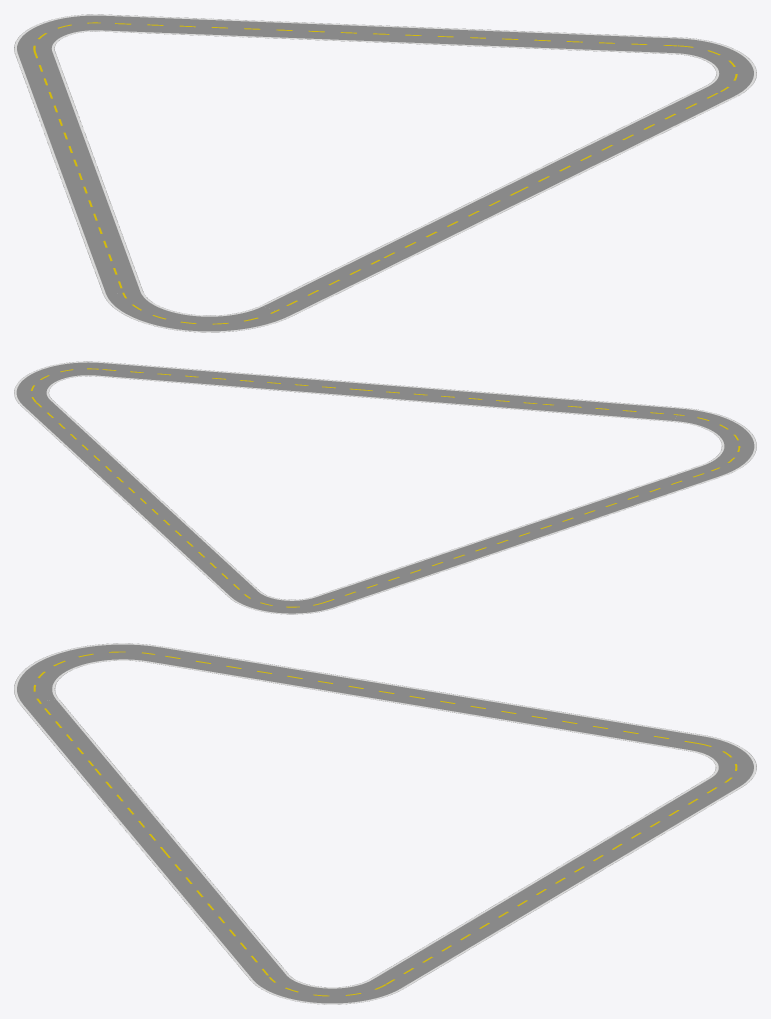
The model's file is track12.fbx.
3 renders of one model, top to bottom at view 1: azimuth 30°, elevation 25°; view 2: azimuth 150°, elevation 25°; view 3: azimuth 270°, elevation 25°, orthographic. The views are drawn at different scales.
Visible parts, largest first — view 1: road_straight_69, road_straight_71, road_straight_67, road_straight_64, road_arc_77, road_straight_74, road_arc_68, road_arc_70; view 2: road_straight_71, road_straight_69, road_straight_67, road_straight_64, road_arc_77, road_straight_74, road_arc_68, road_arc_70; view 3: road_straight_71, road_straight_69, road_straight_67, road_straight_64, road_arc_77, road_straight_74, road_arc_68, road_arc_70.
Part boxes in pixels (x1,y1,x2,y2): road_straight_69: [99, 14, 678, 54]; road_straight_71: [15, 51, 142, 293]; road_straight_67: [504, 86, 735, 196]; road_straight_64: [365, 185, 534, 265]; road_arc_77: [103, 291, 291, 332]; road_straight_74: [264, 254, 394, 314]; road_arc_68: [675, 37, 756, 96]; road_arc_70: [14, 14, 102, 53]; road_straight_71: [314, 465, 721, 607]; road_straight_69: [21, 399, 260, 597]; road_straight_67: [95, 362, 363, 396]; road_straight_64: [358, 382, 545, 411]; road_arc_77: [674, 407, 756, 476]; road_straight_74: [539, 397, 676, 421]; road_arc_68: [14, 361, 101, 405]; road_arc_70: [229, 591, 335, 614]; road_straight_71: [148, 646, 704, 751]; road_straight_69: [370, 777, 741, 988]; road_straight_67: [146, 849, 288, 979]; road_straight_64: [74, 763, 184, 855]; road_arc_77: [14, 643, 161, 704]; road_straight_74: [22, 701, 112, 768]; road_arc_68: [250, 974, 402, 1004]; road_arc_70: [690, 735, 756, 787].
Size of the model in its own units: 15666 by 0.00143 by 13610.
